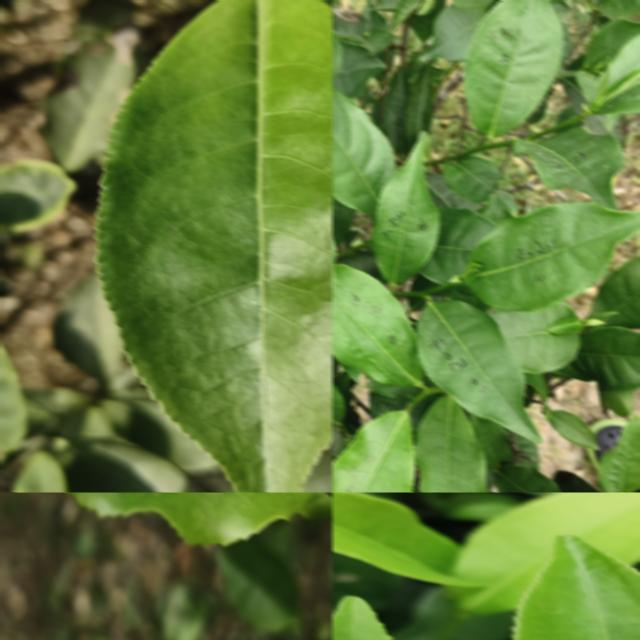Leaf: (95, 0, 332, 492), (452, 492, 640, 613), (467, 201, 640, 309), (415, 299, 541, 442), (332, 492, 477, 586), (463, 0, 562, 137), (43, 28, 137, 171), (512, 535, 640, 640), (332, 263, 424, 398), (369, 140, 439, 286), (53, 271, 136, 391), (512, 125, 623, 209), (332, 86, 395, 215), (215, 539, 297, 631), (413, 395, 486, 492), (65, 440, 196, 492), (332, 410, 414, 492), (489, 301, 579, 372), (419, 207, 495, 282), (0, 159, 76, 232), (555, 326, 640, 391), (588, 255, 640, 328), (420, 3, 485, 61), (597, 413, 640, 492), (332, 40, 385, 97), (442, 155, 503, 203), (583, 19, 640, 69), (404, 61, 434, 148), (381, 67, 409, 154), (11, 450, 67, 492), (470, 414, 512, 469), (546, 409, 598, 448), (494, 464, 561, 492), (300, 446, 332, 492), (389, 0, 422, 32), (360, 27, 393, 53), (595, 0, 640, 17), (370, 0, 401, 10)
